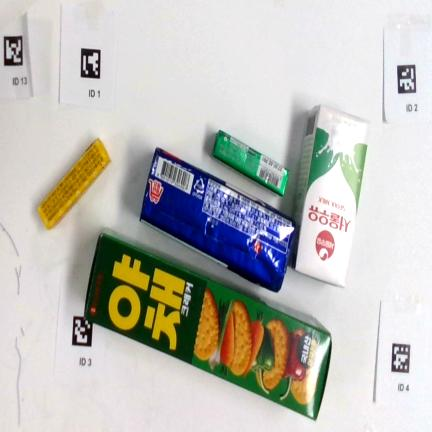cracker_ace: (141, 148, 295, 292)
cracker_vege: (85, 231, 332, 420)
gum_green: (213, 130, 289, 196)
gum_yellow: (38, 138, 110, 229)
milk_green: (293, 105, 368, 286)
